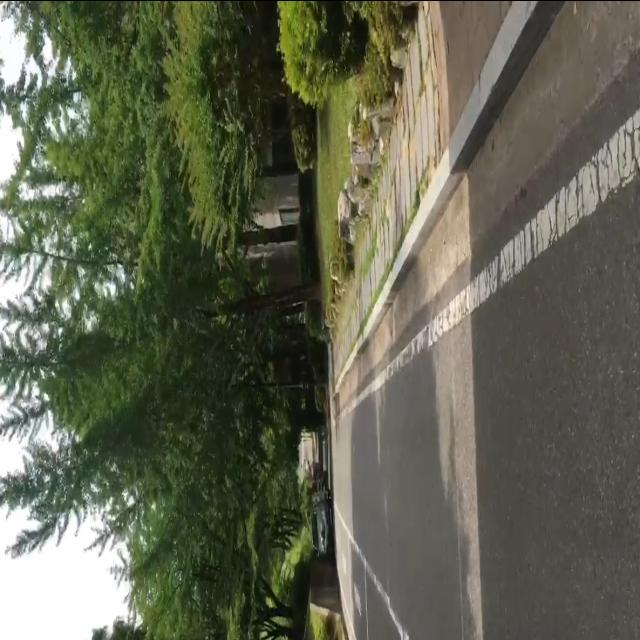obstacle: (311, 461, 335, 555)
road: (332, 0, 640, 640)
sidewalk: (333, 0, 539, 393)
